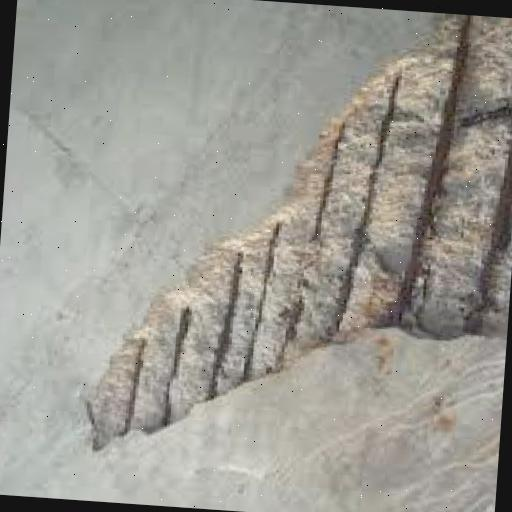spalling: (83, 15, 512, 446)
